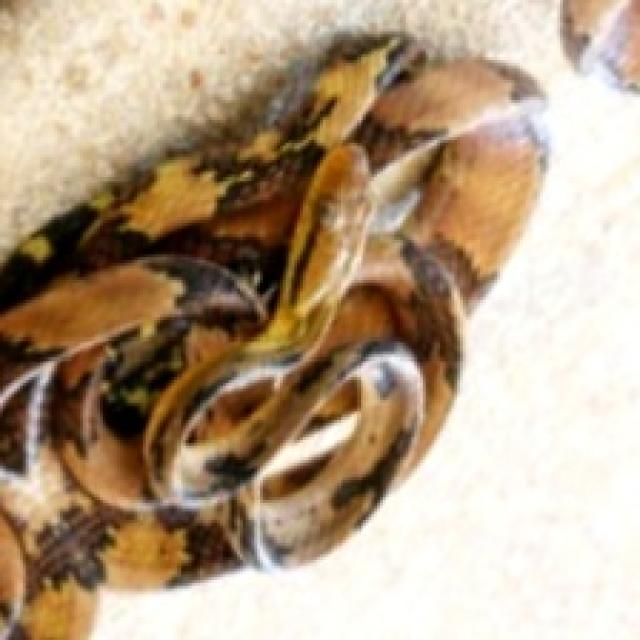dog-toothed cat snake: (0, 34, 543, 637)
